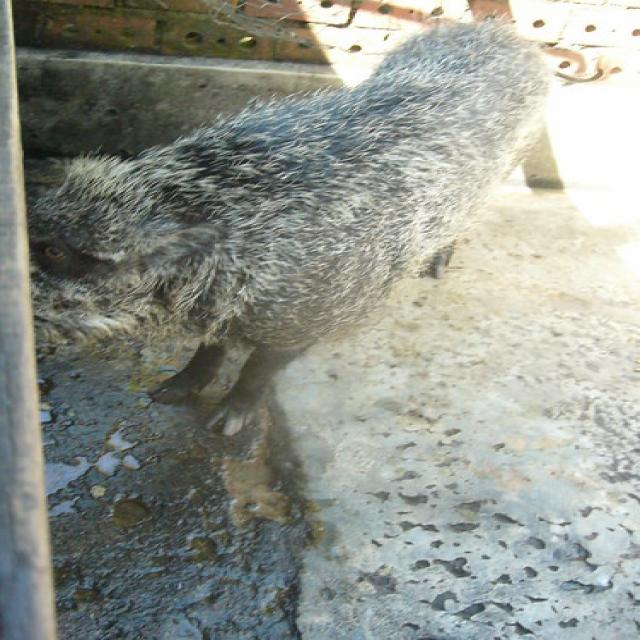boar: (8, 0, 622, 477)
